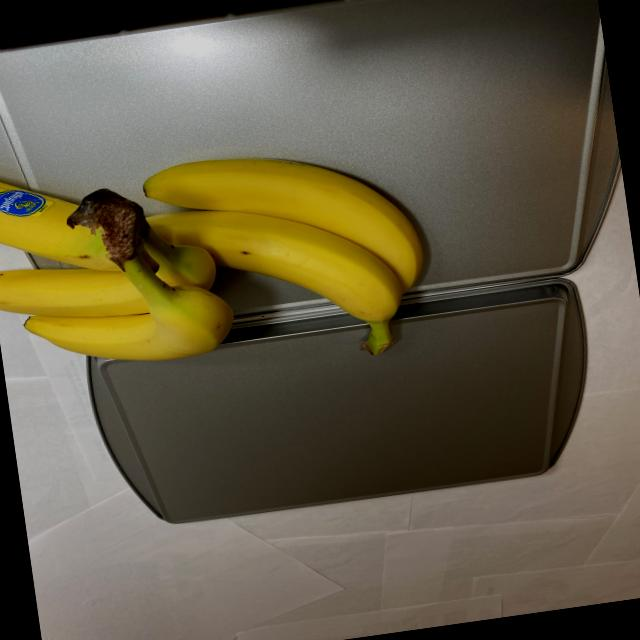banana: (0, 95, 440, 412)
